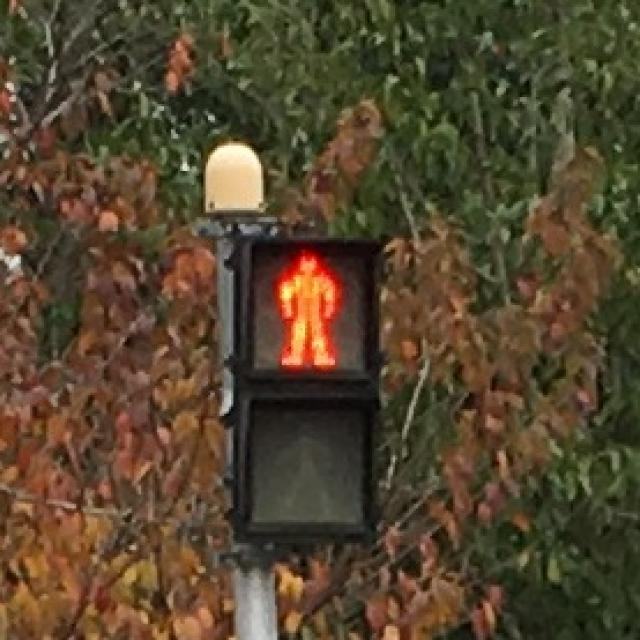red_light: (252, 240, 363, 372)
